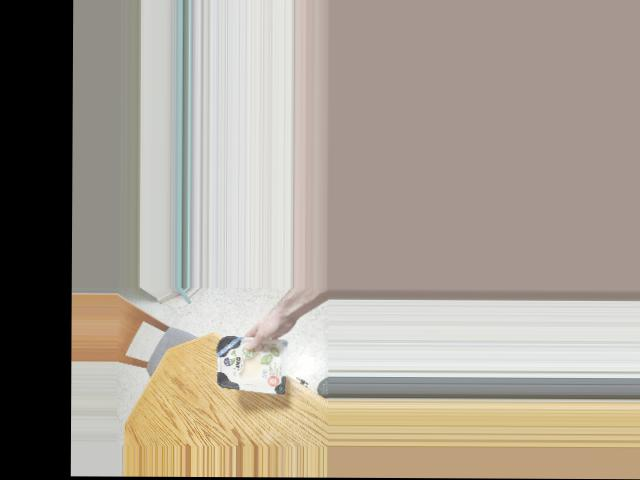cheese: (204, 338, 300, 394)
